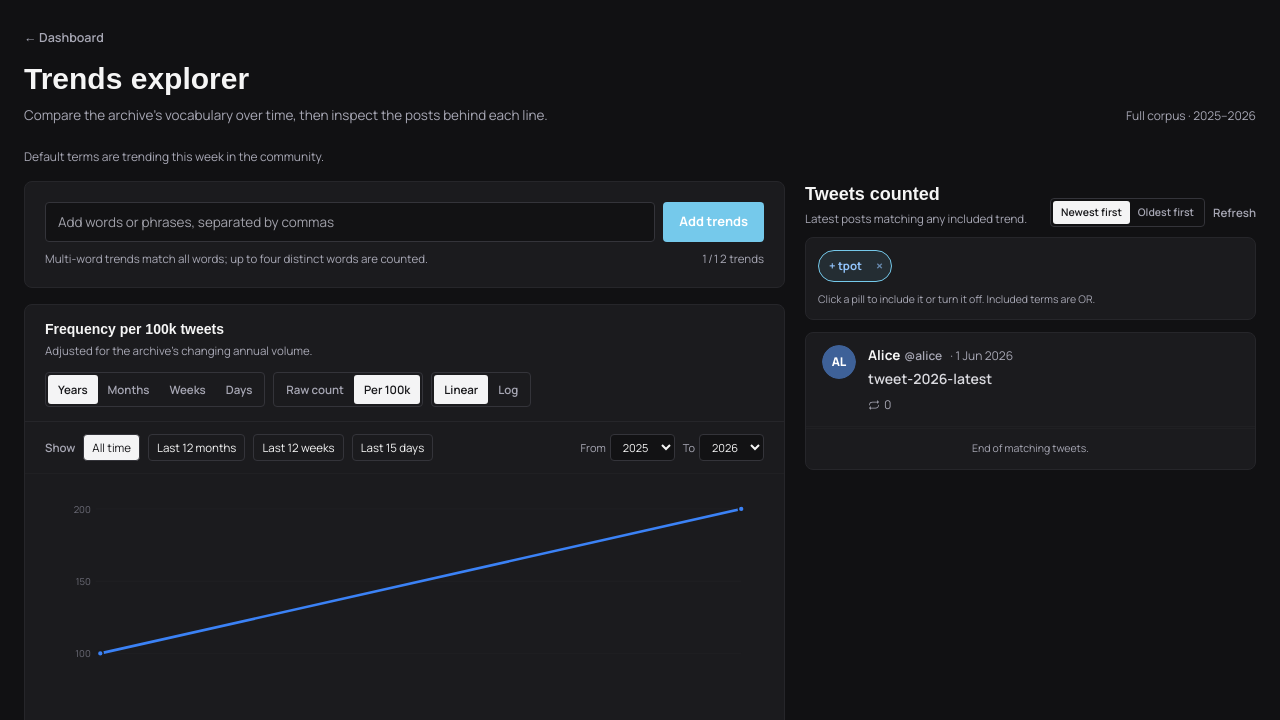
Test: TrendsExplorer request isolation › sorts evidence oldest first within the active period
Expected: the text "tweet-2026-latest" is shown, [868, 368, 992, 388]
Click the button "Oldest first": (1166, 212) [1130, 200, 1202, 224]
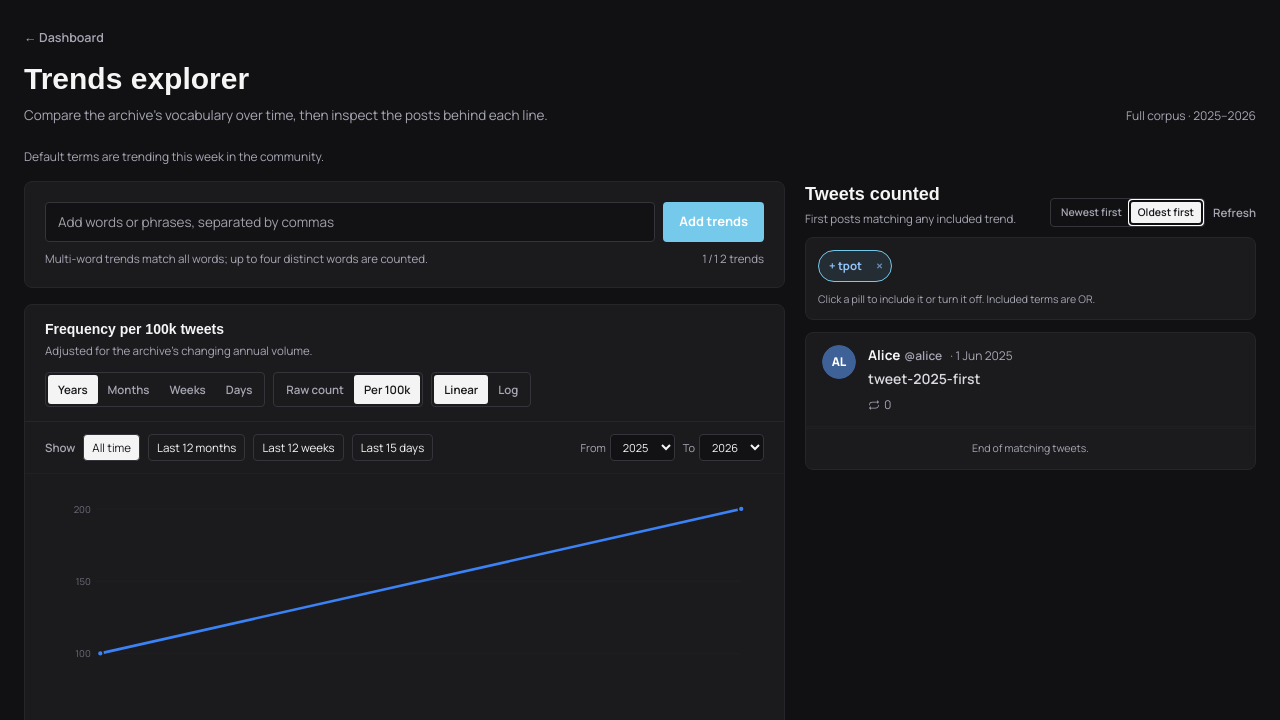
Now the text "tweet-2025-first" is shown, box [868, 368, 980, 388]
Now the link "tweet-2026-latest" is gone
